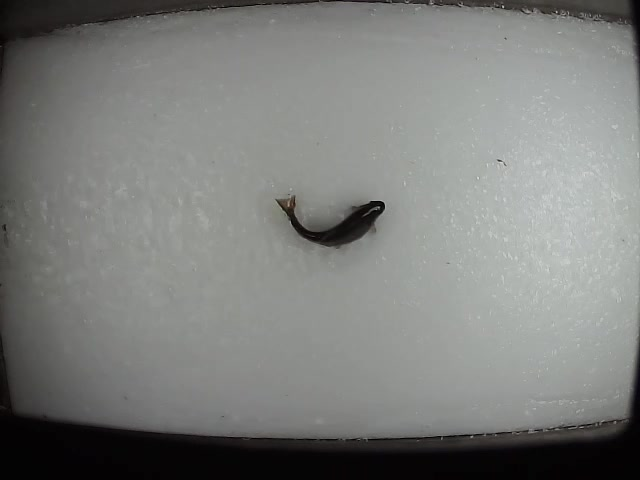fish: (272, 191, 390, 252)
